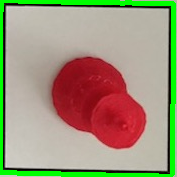Red King: (47, 52, 147, 152)
